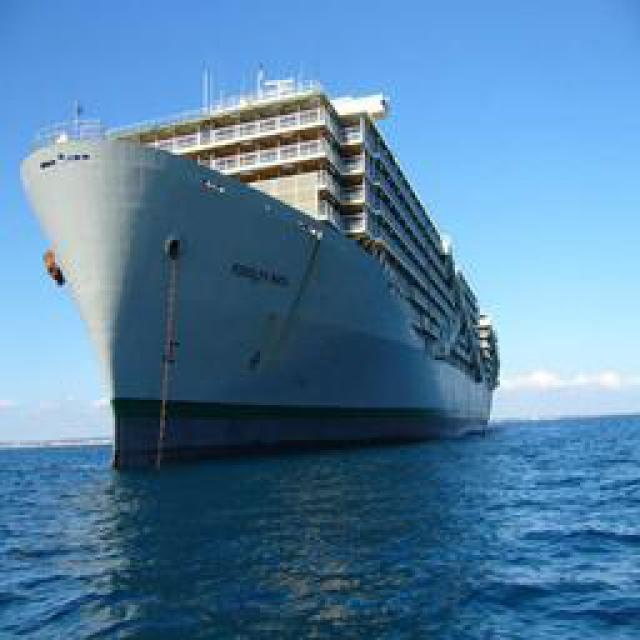Ship: (22, 98, 495, 463)
